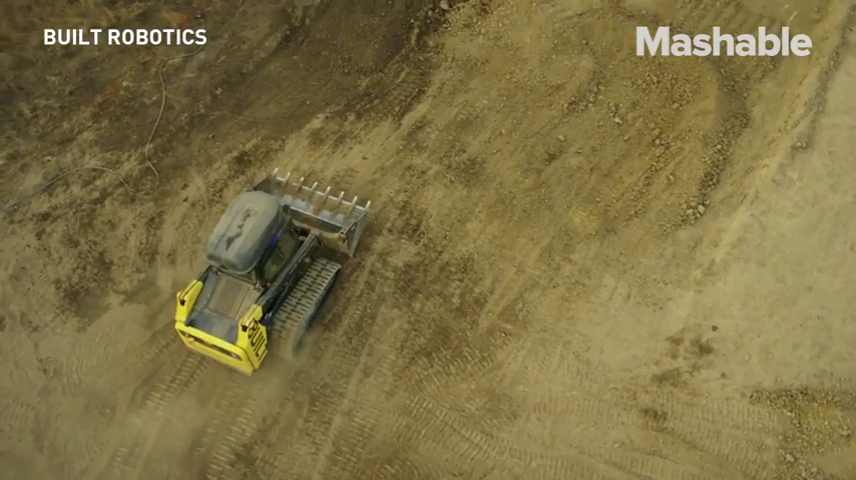con_eq: (180, 167, 364, 378)
